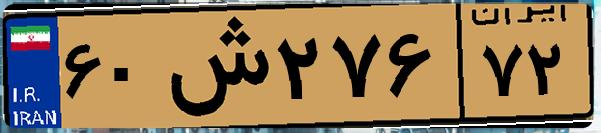0: (110, 28, 158, 98)
2: (270, 28, 330, 110), (525, 38, 570, 115)
6: (385, 28, 445, 110), (57, 26, 110, 100)
7: (330, 28, 385, 110), (475, 38, 525, 113)
ش: (158, 12, 270, 120)
